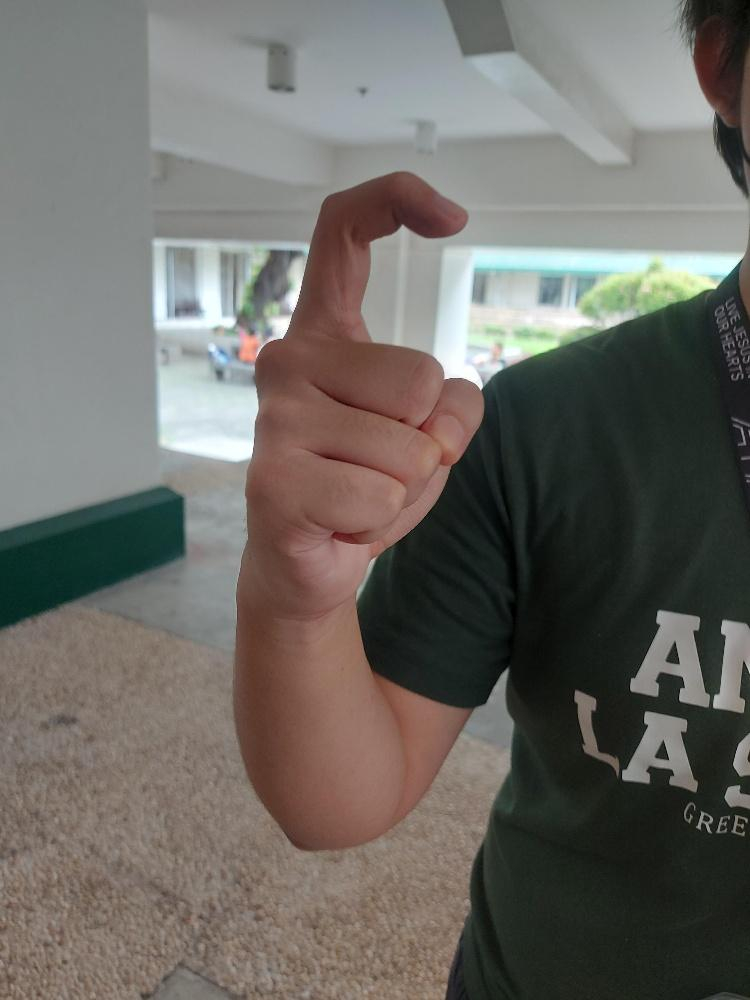x: (237, 165, 487, 624)
